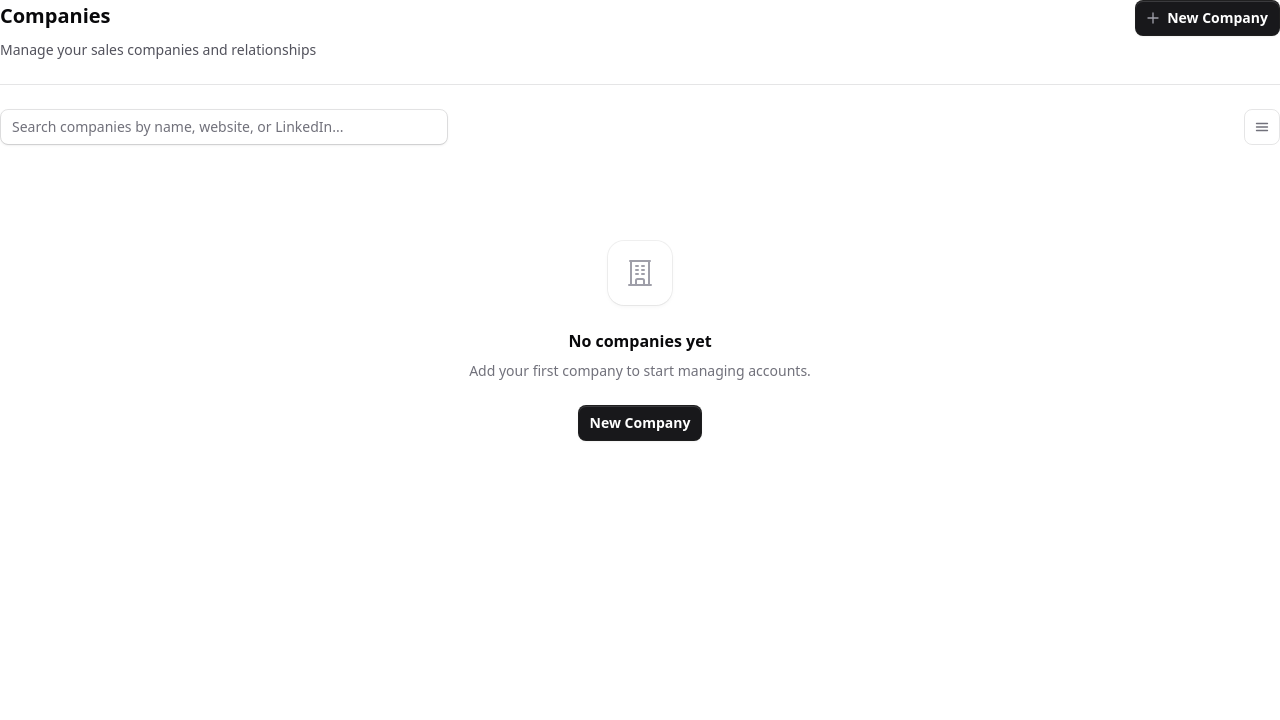
Test: CompaniesList › opens new company sheet when "New Company" button is clicked
Click the 1st button "New Company": (1208, 18) [1135,0,1279,36]
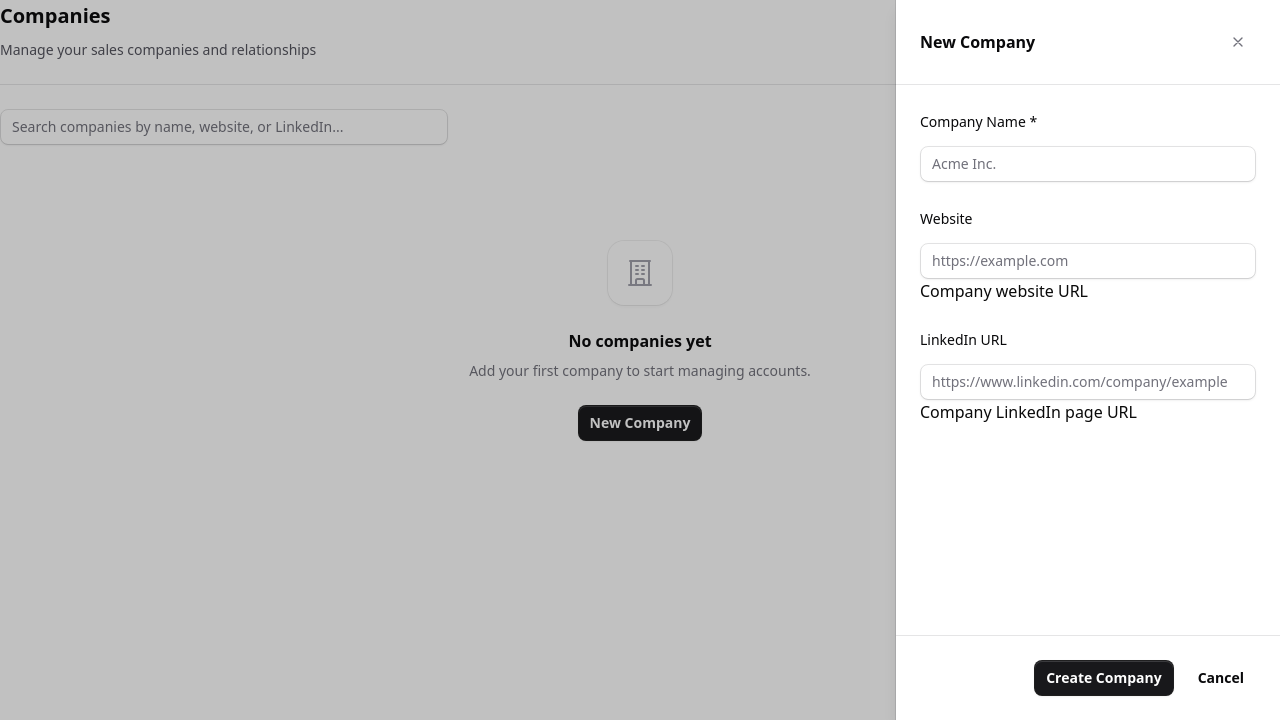
Now the heading "New Company" is shown, box [920,30,1035,54]
